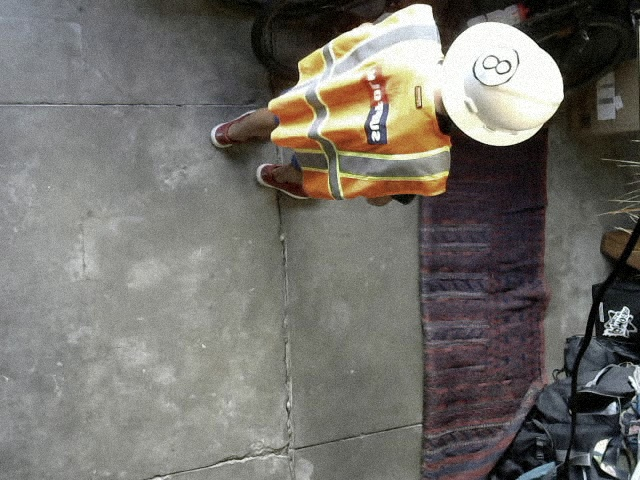eight: (472, 41, 520, 86)
